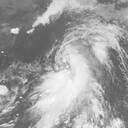cyclone: (33, 48, 94, 99)
